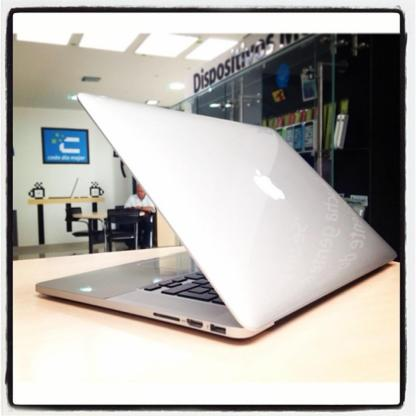board: (13, 68, 388, 358)
